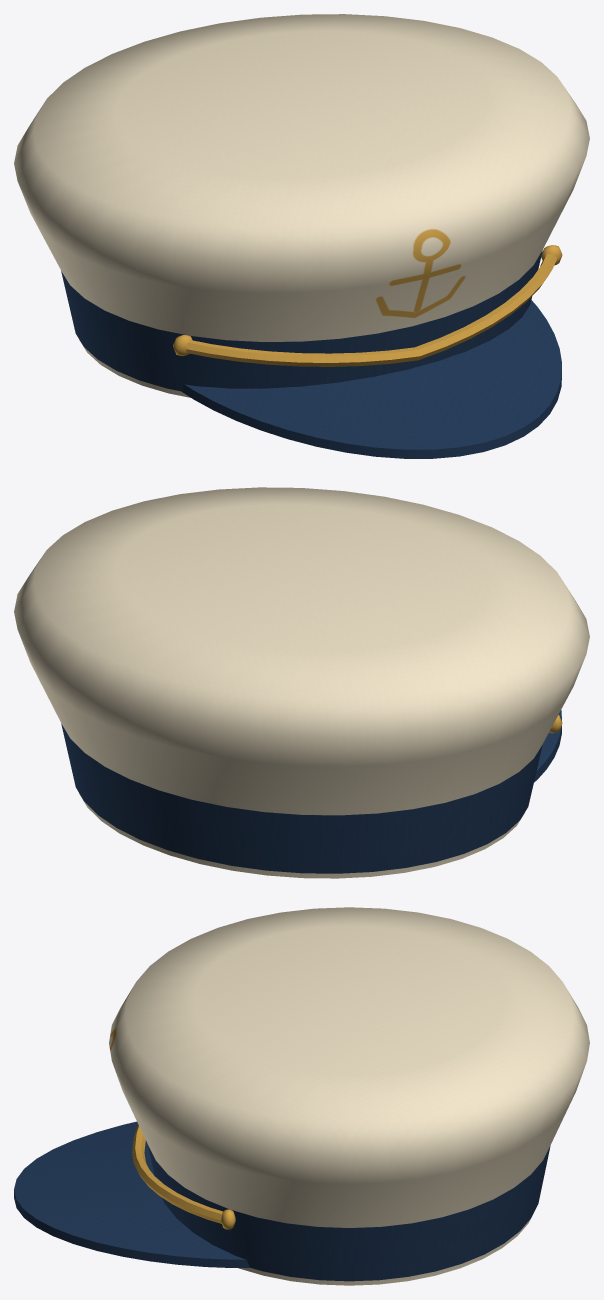
File: KD_MarineCap_Set.fbx
3 views of the same model, one above another, from view 1: azimuth 30°, elevation 25°; view 2: azimuth 150°, elevation 25°; view 3: azimuth 270°, elevation 25° (orthographic). The views are drawn at different scales.
Parts seen in each view (by area): view 1: KD_MarineCap_Set; view 2: KD_MarineCap_Set; view 3: KD_MarineCap_Set.
Boxes of the visible parts, <box> form: KD_MarineCap_Set: <box>14,14,589,458</box>; KD_MarineCap_Set: <box>14,487,589,878</box>; KD_MarineCap_Set: <box>14,907,589,1285</box>.
Size of the model in its own units: 0.176 by 0.071 by 0.1854.
1 material, 1 textured.
